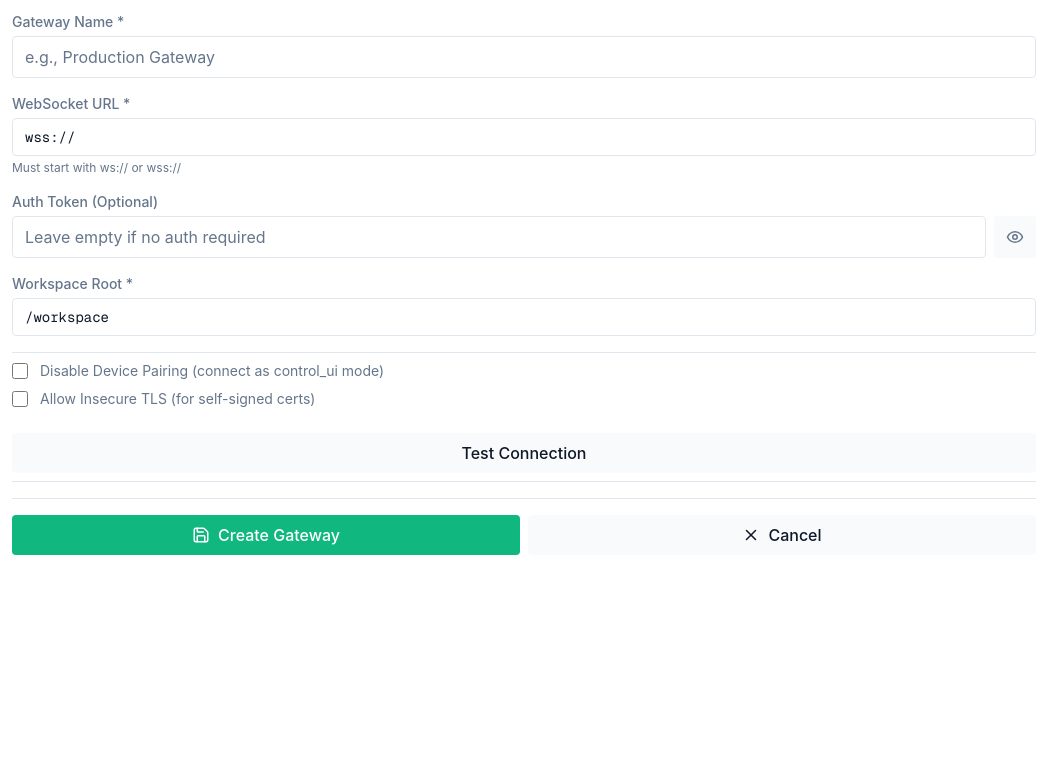
Scenario: GatewayForm Component › Name Field Validation › rejects empty name
Step 1. Replace the text in the field with placeholder "wss://gateway.example.com:443" below "WebSocket URL *" with "wss://example.com" → (524, 137), box [12,118,1036,156]
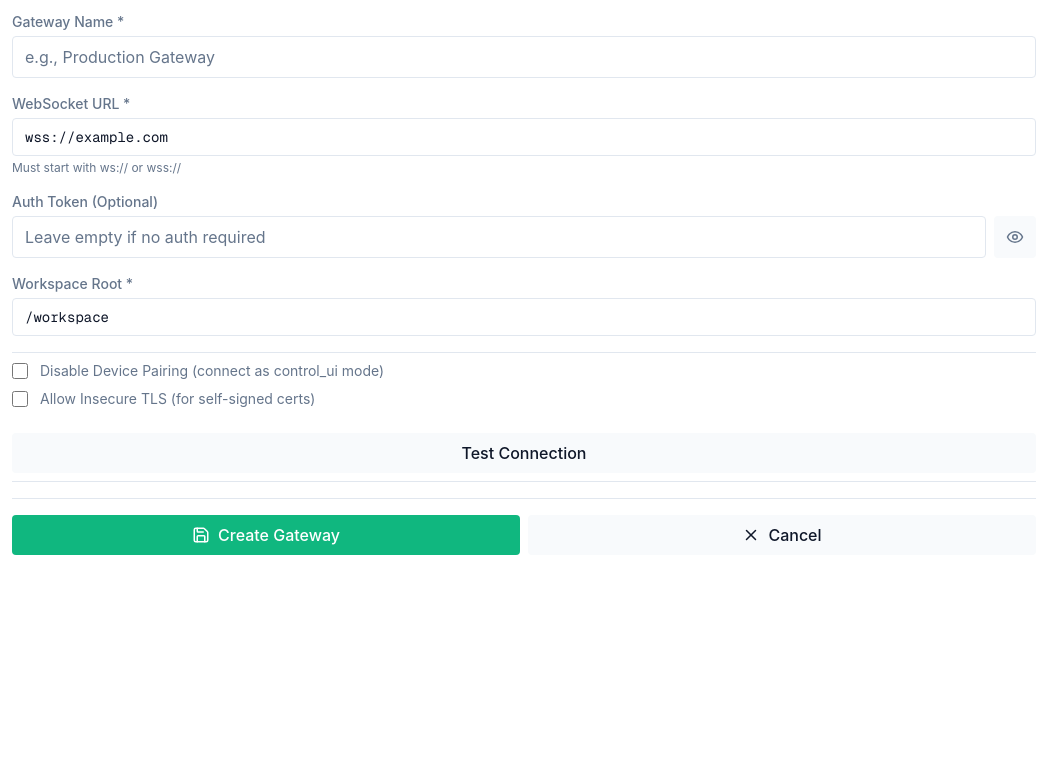
Step 2. Click the button "Create Gateway" → click(266, 535), box [12,515,520,555]
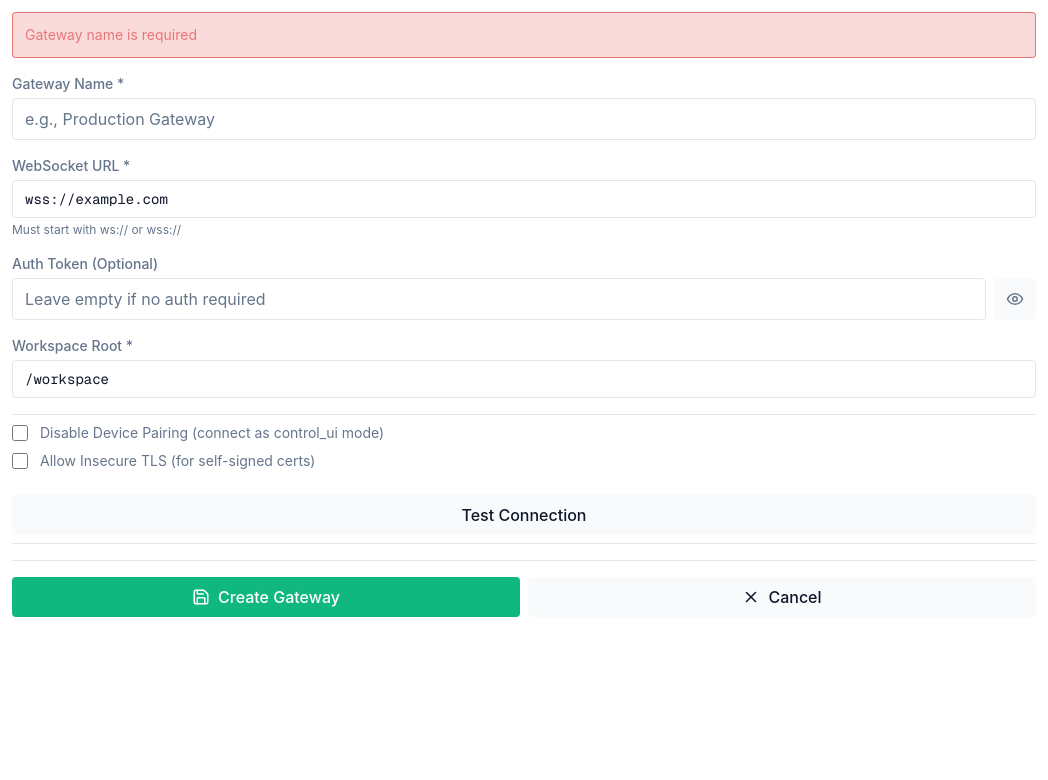
Expected: the text "Gateway name is required" is shown, [12,12,1036,58]
